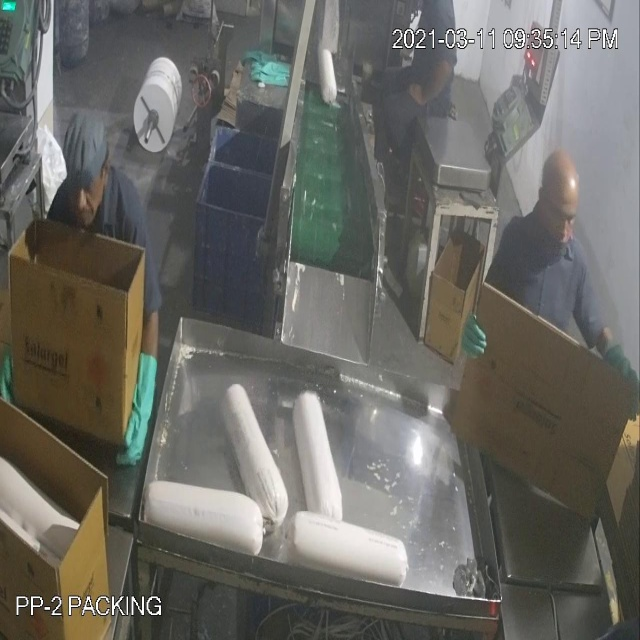Guantes: (108, 349, 166, 467)
Sin_guantes: (409, 55, 460, 121)
